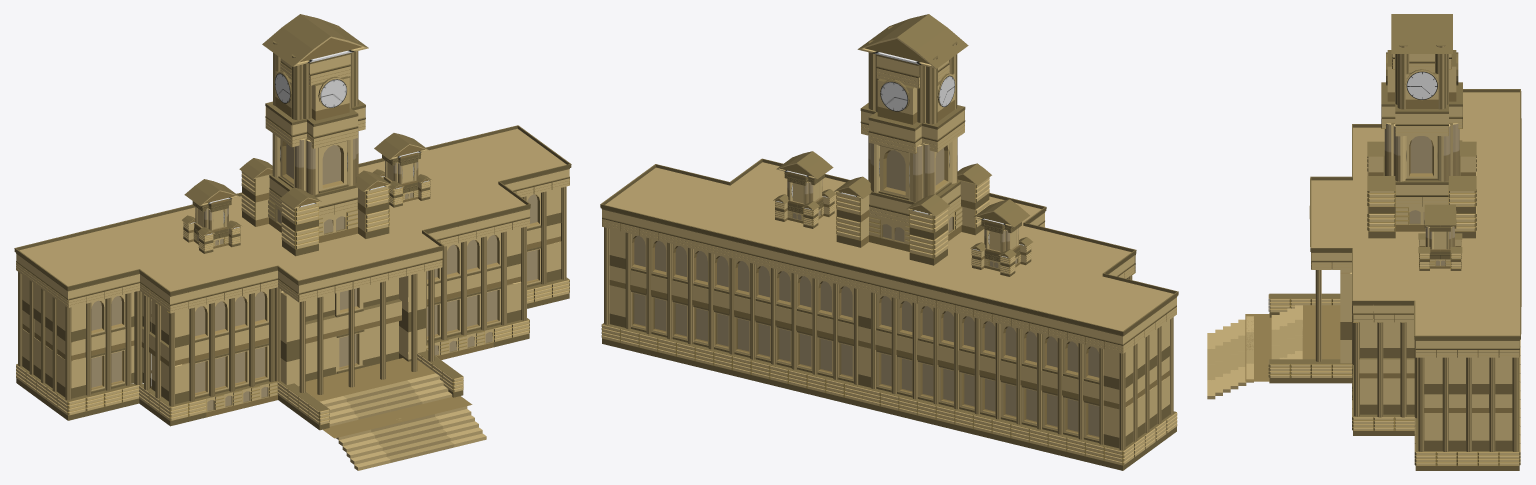
The model's file is Townhall.gltf.
3 renders of one model, left to right at view 1: azimuth 30°, elevation 25°; view 2: azimuth 150°, elevation 25°; view 3: azimuth 270°, elevation 25°, orthographic. The views are drawn at different scales.
Visible parts, largest first — view 1: TownHall; view 2: TownHall; view 3: TownHall.
Boxes of the visible parts, left/top/right/bottom form: TownHall: left=14, top=14, right=571, bottom=470; TownHall: left=600, top=14, right=1178, bottom=470; TownHall: left=1207, top=14, right=1521, bottom=470.
Bounding box in the file's own units: 112 × 74.88 × 60.26.
Materials: 1 (1 with a texture image).
